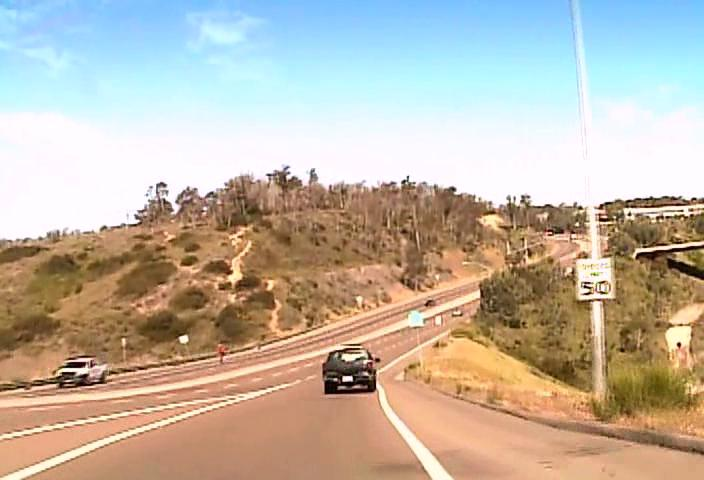speedLimit50: (576, 256, 616, 301)
